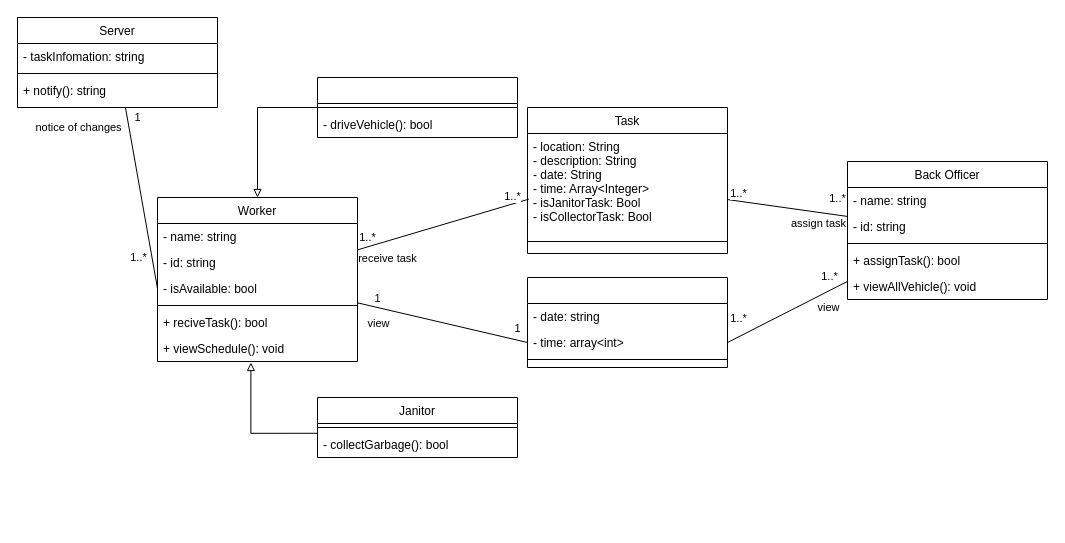
This 1065x543 diagram has some shape labels left out. Here are the shapes that lost their labels. From the top down, the box of each, then its label:
(316, 76, 518, 138): Collecter
(526, 276, 728, 368): Schedule
